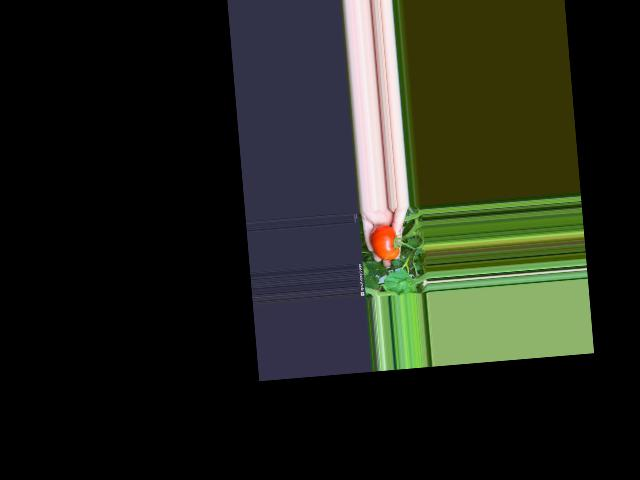tomato: (369, 223, 399, 261)
